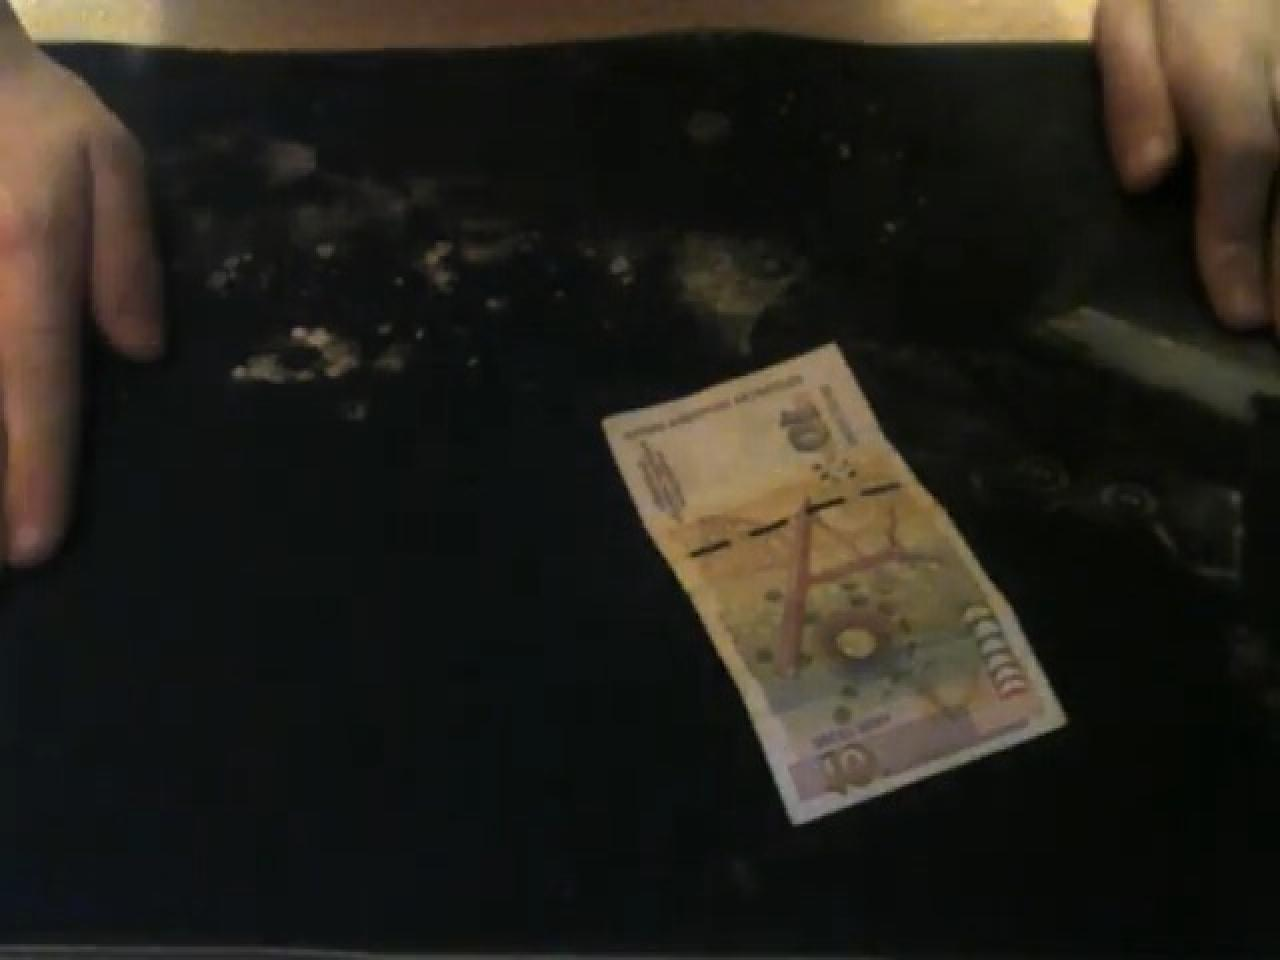10leva: (600, 347, 1068, 829)
